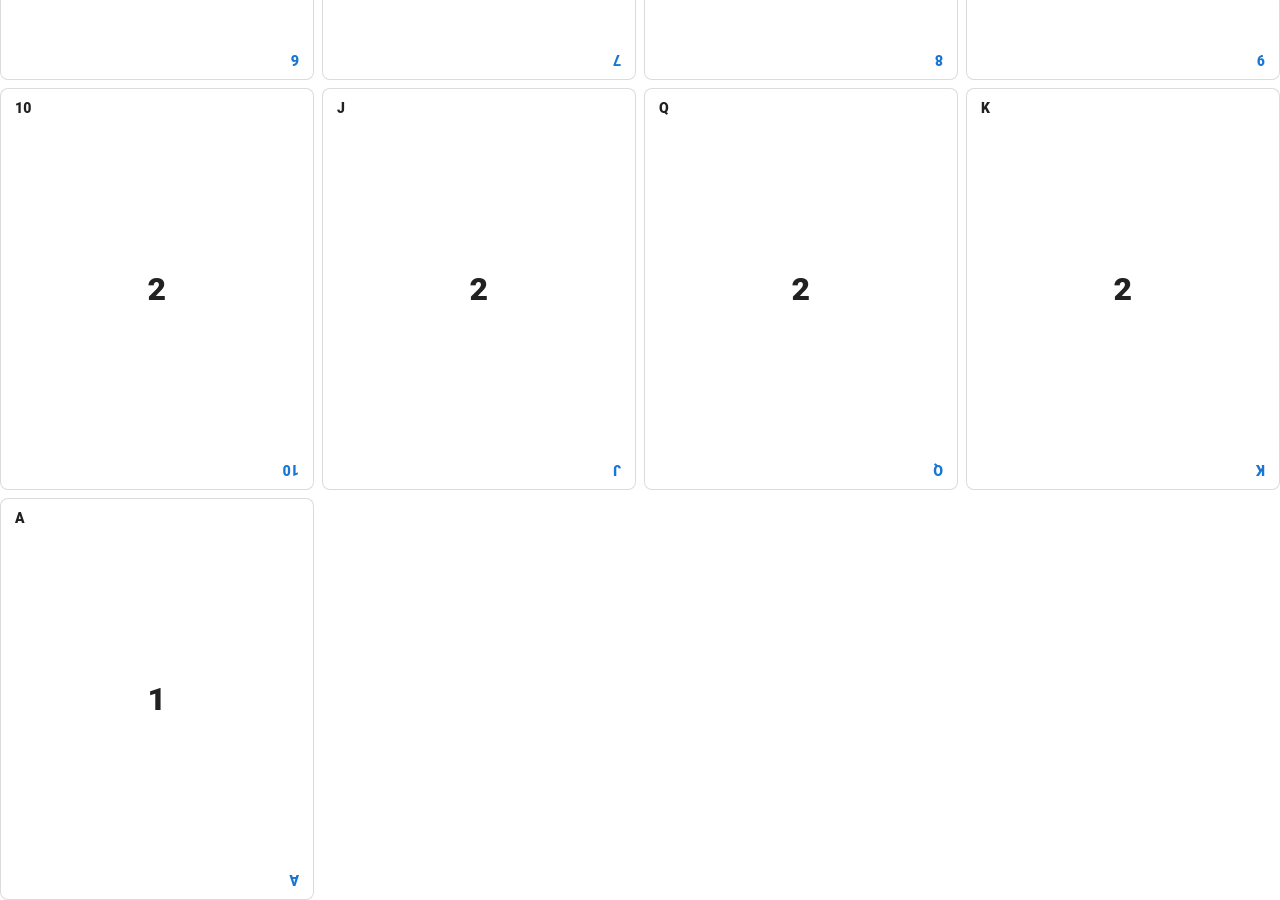
Test case: MobileCardInventory component › opens inspection dialog when tapping a card and renders cartoony cross on drawn cards
(page scrolled)
Click the element with test id "mobile-card-14". click: (157, 699)
box: [0, 498, 314, 899]
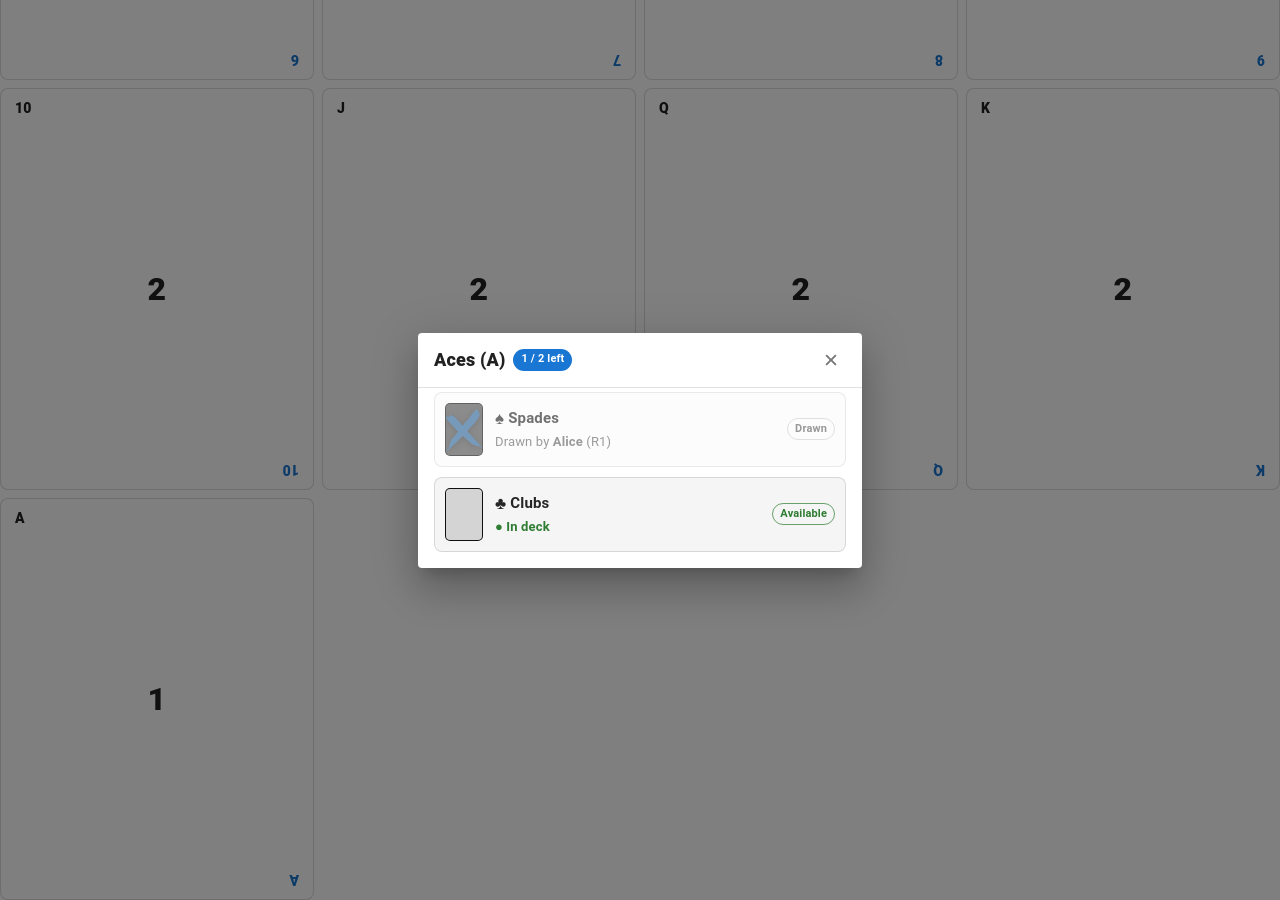
Now the text "Aces (A)" is shown, box [434, 346, 506, 373]
Now the button named "close" is shown, box [816, 344, 846, 374]
